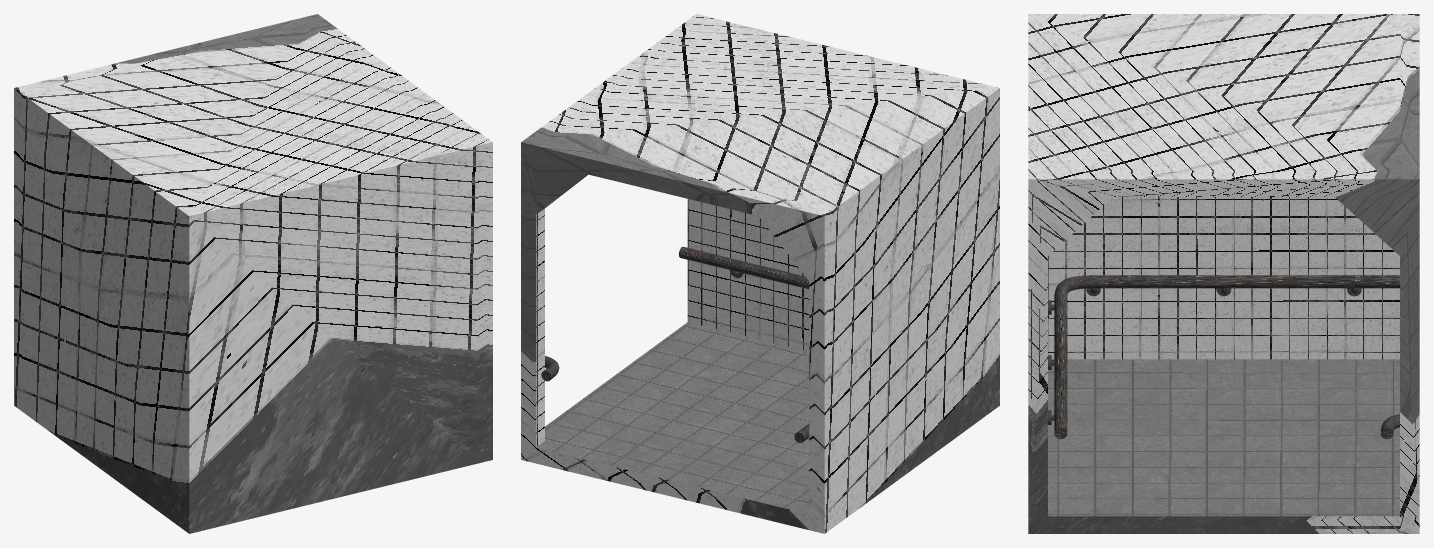
Rendered from CornerShuin.glb.
3 renders of one model, left to right at view 1: azimuth 30°, elevation 25°; view 2: azimuth 150°, elevation 25°; view 3: azimuth 270°, elevation 25°, orthographic. The views are drawn at different scales.
Visible parts, largest first — view 1: metro-corner; view 2: metro-corner, BézierCurve.003; view 3: metro-corner, BézierCurve.003.
Boxes of the visible parts, box(x1,y1,x2,y2) form: metro-corner: box(14, 14, 492, 533); metro-corner: box(521, 14, 999, 533); BézierCurve.003: box(679, 246, 809, 442); metro-corner: box(1028, 14, 1419, 533); BézierCurve.003: box(1054, 275, 1399, 439).
Size of what is drawn, in the model's own units: 3 by 3 by 3.
2 materials, 2 textured.
